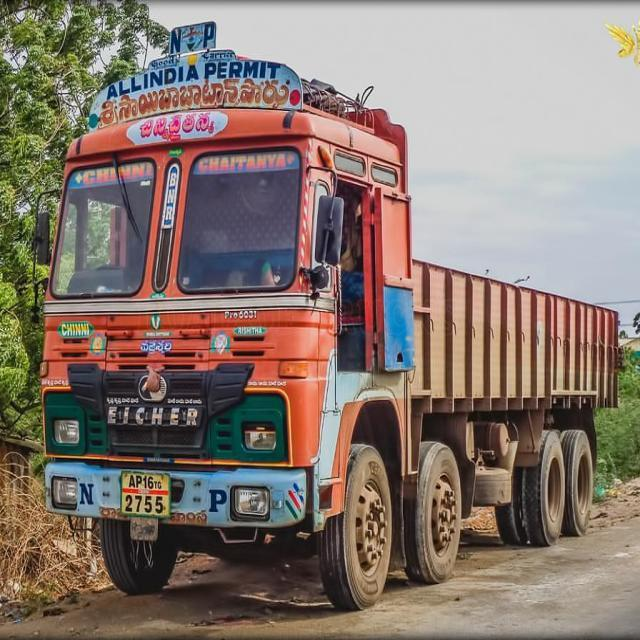Truck: (26, 15, 621, 610)
